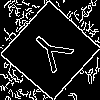Y: (25, 25, 82, 81)
